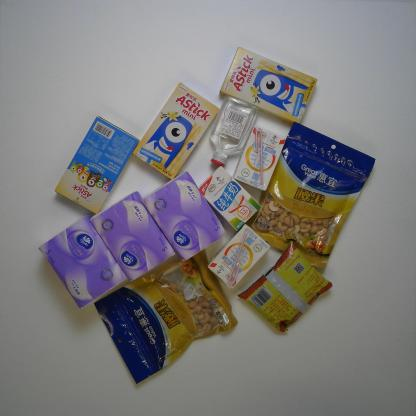Alcohol: (209, 92, 259, 169)
Dessert: (130, 81, 222, 182), (52, 114, 140, 218), (219, 46, 320, 125)
Dried Fruit: (92, 245, 239, 385), (245, 120, 378, 270)
Milk: (206, 222, 272, 291), (196, 164, 262, 232), (232, 123, 287, 193)
Seasoner: (235, 239, 334, 337)
Tissue: (36, 213, 127, 310), (139, 169, 227, 263), (89, 189, 176, 284)
